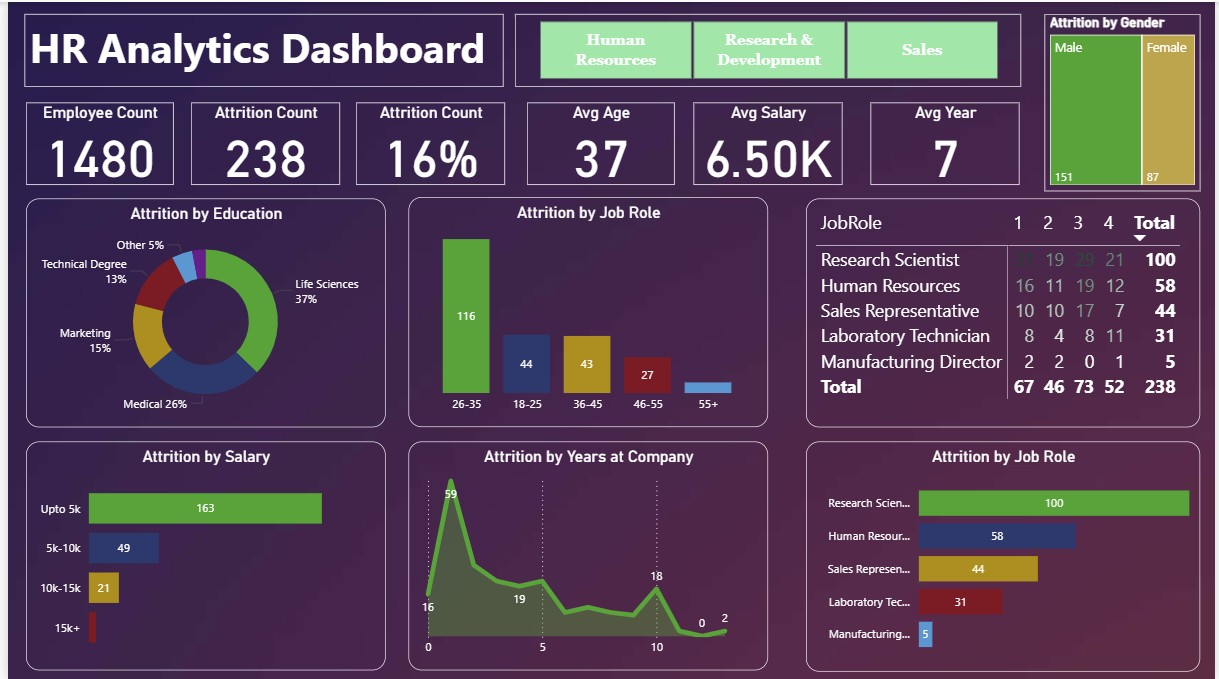

Layout of this report page (visuals, bound fields, positions):
{"tool":"powerbi","page":{"name":"Page 1","canvas":[1280,720],"ordinal":0},"visuals":[{"type":"card","title":"Employee Count","fields":{"Values":["CountNonNull(HR_Data.EmpID)"]},"box":[18.4,107.3,156.7,87.5],"z":0},{"type":"card","title":"Attrition Count","fields":{"Values":["Sum(HR_Data.Attrition_Count)"]},"box":[193.4,107.3,158.1,87.5],"z":1000},{"type":"card","title":"Attrition Count","fields":{"Values":["HR_Data.Attrition rate"]},"box":[368.4,107.3,158.1,87.5],"z":2000},{"type":"card","title":"Avg Age","fields":{"Values":["Avg(HR_Data.Age)"]},"box":[550.5,107.3,156.7,87.5],"z":3000},{"type":"card","title":"Avg Salary","fields":{"Values":["Avg(HR_Data.MonthlyIncome)"]},"box":[727,107.3,158.1,87.5],"z":4000},{"type":"card","title":"Avg Year","fields":{"Values":["Avg(HR_Data.YearsAtCompany)"]},"box":[914.7,107.3,158.1,87.5],"z":5000},{"type":"textbox","box":[18.1,13.3,507.9,77.2],"z":6000},{"type":"slicer","fields":{"Values":["Departments.Department"]},"box":[536.9,13.3,536.9,77.2],"z":7000},{"type":"treemap","title":"Attrition by Gender","fields":{"Group":["HR_Data.Gender"],"Values":["Sum(HR_Data.Attrition_Count)"]},"box":[1099.1,12.7,165.4,187.7],"z":8000},{"type":"donutChart","title":"Attrition by Education","fields":{"Category":["Education.Education"],"Y":["Sum(HR_Data.Attrition_Count)"]},"box":[18.4,208.9,381.1,242.8],"z":9000},{"type":"barChart","title":"Attrition by Salary","fields":{"Y":["Sum(HR_Data.Attrition_Count)"],"Category":["HR_Data.SalarySlab"],"Series":["HR_Data.SalarySlab"]},"box":[18.4,465.8,381.1,242.8],"z":10000},{"type":"pivotTable","title":"Attrition by Education","fields":{"Values":["Sum(HR_Data.Attrition_Count)"],"Rows":["Jobs.JobRole"],"Columns":["HR_Data.JobSatisfaction"]},"box":[846.9,208.9,417.8,242.8],"z":11000},{"type":"areaChart","title":"Attrition by Years at Company","fields":{"Y":["Sum(HR_Data.Attrition_Count)"],"Category":["HR_Data.YearsAtCompany"]},"box":[424.9,465.8,381.1,242.8],"z":12000},{"type":"barChart","title":"Attrition by Job Role","fields":{"Y":["Sum(HR_Data.Attrition_Count)"],"Category":["Jobs.JobRole"],"Series":["Jobs.JobRole"]},"box":[846.9,465.8,417.8,244.2],"z":13000},{"type":"columnChart","title":"Attrition by Job Role","fields":{"Category":["HR_Data.AgeGroup"],"Y":["Sum(HR_Data.Attrition_Count)"],"Series":["HR_Data.AgeGroup"]},"box":[424.9,207.5,381.1,244.2],"z":14000}]}

Visuals, with their boxes in screenshot pixels (x1, y1, x2, y2), scaled from the page's 1280x720 canvas onto the 1219x679 screenshot:
"Employee Count" card: rect(18, 101, 167, 184)
"Attrition Count" card: rect(184, 101, 335, 184)
"Attrition Count" card: rect(351, 101, 501, 184)
"Avg Age" card: rect(524, 101, 673, 184)
"Avg Salary" card: rect(692, 101, 843, 184)
"Avg Year" card: rect(871, 101, 1022, 184)
textbox: rect(17, 13, 501, 85)
slicer - Departments.Department: rect(511, 13, 1023, 85)
"Attrition by Gender" treemap: rect(1047, 12, 1204, 189)
"Attrition by Education" donutChart: rect(18, 197, 380, 426)
"Attrition by Salary" barChart: rect(18, 439, 380, 668)
"Attrition by Education" pivotTable: rect(807, 197, 1204, 426)
"Attrition by Years at Company" areaChart: rect(405, 439, 768, 668)
"Attrition by Job Role" barChart: rect(807, 439, 1204, 670)
"Attrition by Job Role" columnChart: rect(405, 196, 768, 426)
